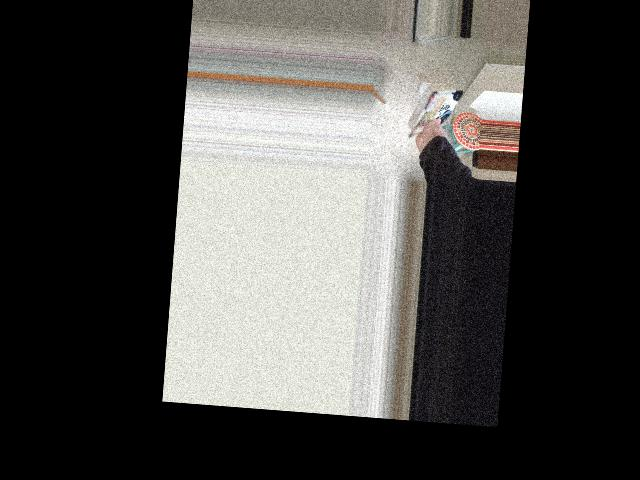cheese: (399, 79, 473, 155)
